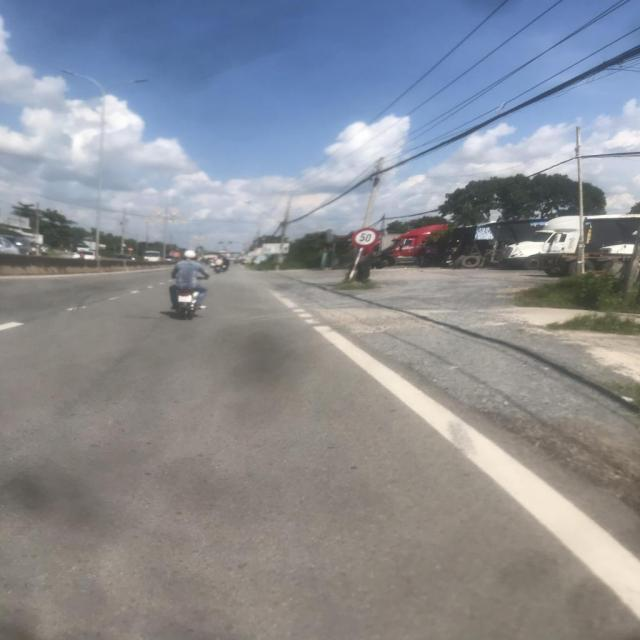toc_do_toi_da_50: (350, 228, 380, 248)
